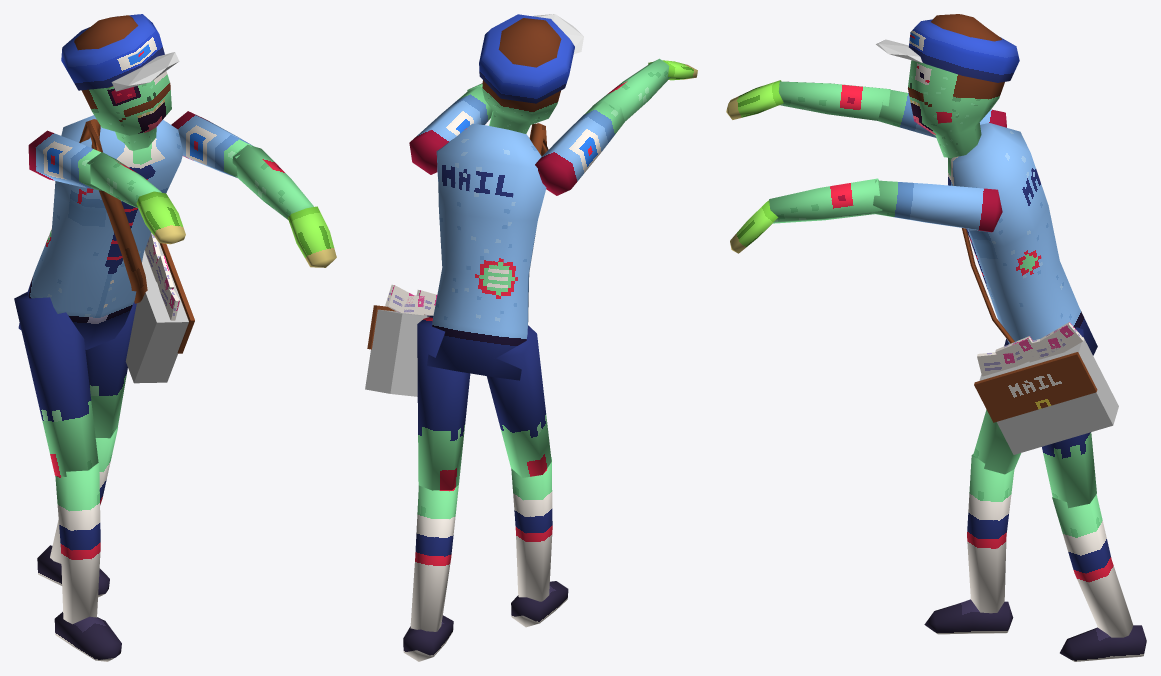
The model's file is Walker Mail Carrier.fbx.
The picture shows the model from 3 angles, left to right: view 1: azimuth 30°, elevation 25°; view 2: azimuth 150°, elevation 25°; view 3: azimuth 270°, elevation 25°; orthographic projection. The views are drawn at different scales.
Parts seen in each view (by area): view 1: Walker Mail Carrier torso, Walker Mail Carrier thigh R, Walker Mail Carrier shin R.001, Walker Mail Carrier head.001, Walker Mail Carrier mailbag.001, Walker Mail Carrier cap crown, Walker Mail Carrier thigh L, Walker Mail Carrier forearm L.001, Walker Mail Carrier upper arm R, Walker Mail Carrier upper arm L, Walker Mail Carrier satchel strap, Walker Mail Carrier shoe R (+8 smaller); view 2: Walker Mail Carrier torso, Walker Mail Carrier thigh L, Walker Mail Carrier thigh R, Walker Mail Carrier shin L.001, Walker Mail Carrier shin R.001, Walker Mail Carrier cap crown, Walker Mail Carrier head.001, Walker Mail Carrier upper arm R, Walker Mail Carrier mailbag.001, Walker Mail Carrier upper arm L, Walker Mail Carrier forearm R.001, Walker Mail Carrier shoe R (+3 smaller); view 3: Walker Mail Carrier torso, Walker Mail Carrier head.001, Walker Mail Carrier shin R.001, Walker Mail Carrier shin L.001, Walker Mail Carrier mailbag.001, Walker Mail Carrier mailbag flap, Walker Mail Carrier upper arm L, Walker Mail Carrier cap crown, Walker Mail Carrier forearm L.001, Walker Mail Carrier forearm R.001, Walker Mail Carrier thigh L, Walker Mail Carrier shoe L (+9 smaller).
Boxes of the visible parts, <box> form: Walker Mail Carrier torso: <box>18,115,183,349</box>; Walker Mail Carrier thigh R: <box>14,292,98,476</box>; Walker Mail Carrier shin R.001: <box>55,463,100,624</box>; Walker Mail Carrier head.001: <box>74,15,171,150</box>; Walker Mail Carrier mailbag.001: <box>125,241,188,383</box>; Walker Mail Carrier cap crown: <box>61,14,164,90</box>; Walker Mail Carrier thigh L: <box>85,302,136,438</box>; Walker Mail Carrier forearm L.001: <box>232,144,313,219</box>; Walker Mail Carrier upper arm R: <box>28,130,102,190</box>; Walker Mail Carrier upper arm L: <box>171,111,253,177</box>; Walker Mail Carrier satchel strap: <box>79,119,147,303</box>; Walker Mail Carrier shoe R: <box>54,612,121,661</box>; Walker Mail Carrier torso: <box>427,123,546,380</box>; Walker Mail Carrier thigh L: <box>417,315,470,490</box>; Walker Mail Carrier thigh R: <box>486,325,551,477</box>; Walker Mail Carrier shin L.001: <box>410,485,458,631</box>; Walker Mail Carrier shin R.001: <box>511,457,552,601</box>; Walker Mail Carrier cap crown: <box>479,14,574,103</box>; Walker Mail Carrier head.001: <box>482,18,561,133</box>; Walker Mail Carrier upper arm R: <box>535,101,624,195</box>; Walker Mail Carrier mailbag.001: <box>365,309,429,396</box>; Walker Mail Carrier upper arm L: <box>409,85,492,174</box>; Walker Mail Carrier forearm R.001: <box>592,58,670,121</box>; Walker Mail Carrier shoe R: <box>511,581,568,627</box>; Walker Mail Carrier torso: <box>948,123,1097,355</box>; Walker Mail Carrier head.001: <box>908,14,1004,157</box>; Walker Mail Carrier shin R.001: <box>967,454,1014,613</box>; Walker Mail Carrier shin L.001: <box>1052,494,1133,637</box>; Walker Mail Carrier mailbag.001: <box>979,337,1118,454</box>; Walker Mail Carrier mailbag flap: <box>974,352,1097,422</box>; Walker Mail Carrier upper arm L: <box>871,180,1002,232</box>; Walker Mail Carrier cap crown: <box>909,19,1019,82</box>; Walker Mail Carrier forearm L.001: <box>769,178,882,223</box>; Walker Mail Carrier forearm R.001: <box>778,81,890,120</box>; Walker Mail Carrier thigh L: <box>1042,327,1096,508</box>; Walker Mail Carrier shoe L: <box>1060,625,1146,661</box>.
Size of the model in its own units: 0.5219 by 1.74 by 1.06.
